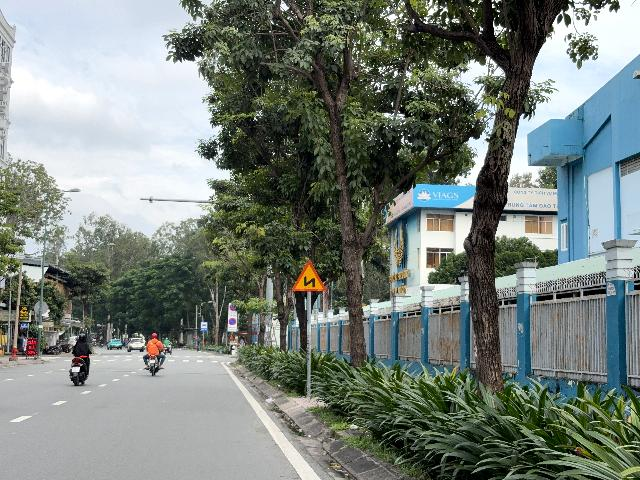nhieu-cho-ngoat-nguy-hiem-lien-tiep: (291, 261, 326, 291)
